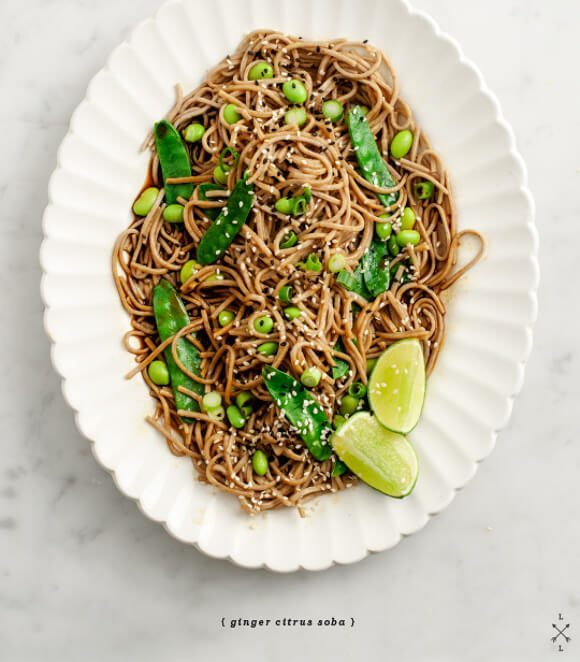Soba: (127, 20, 455, 500)
